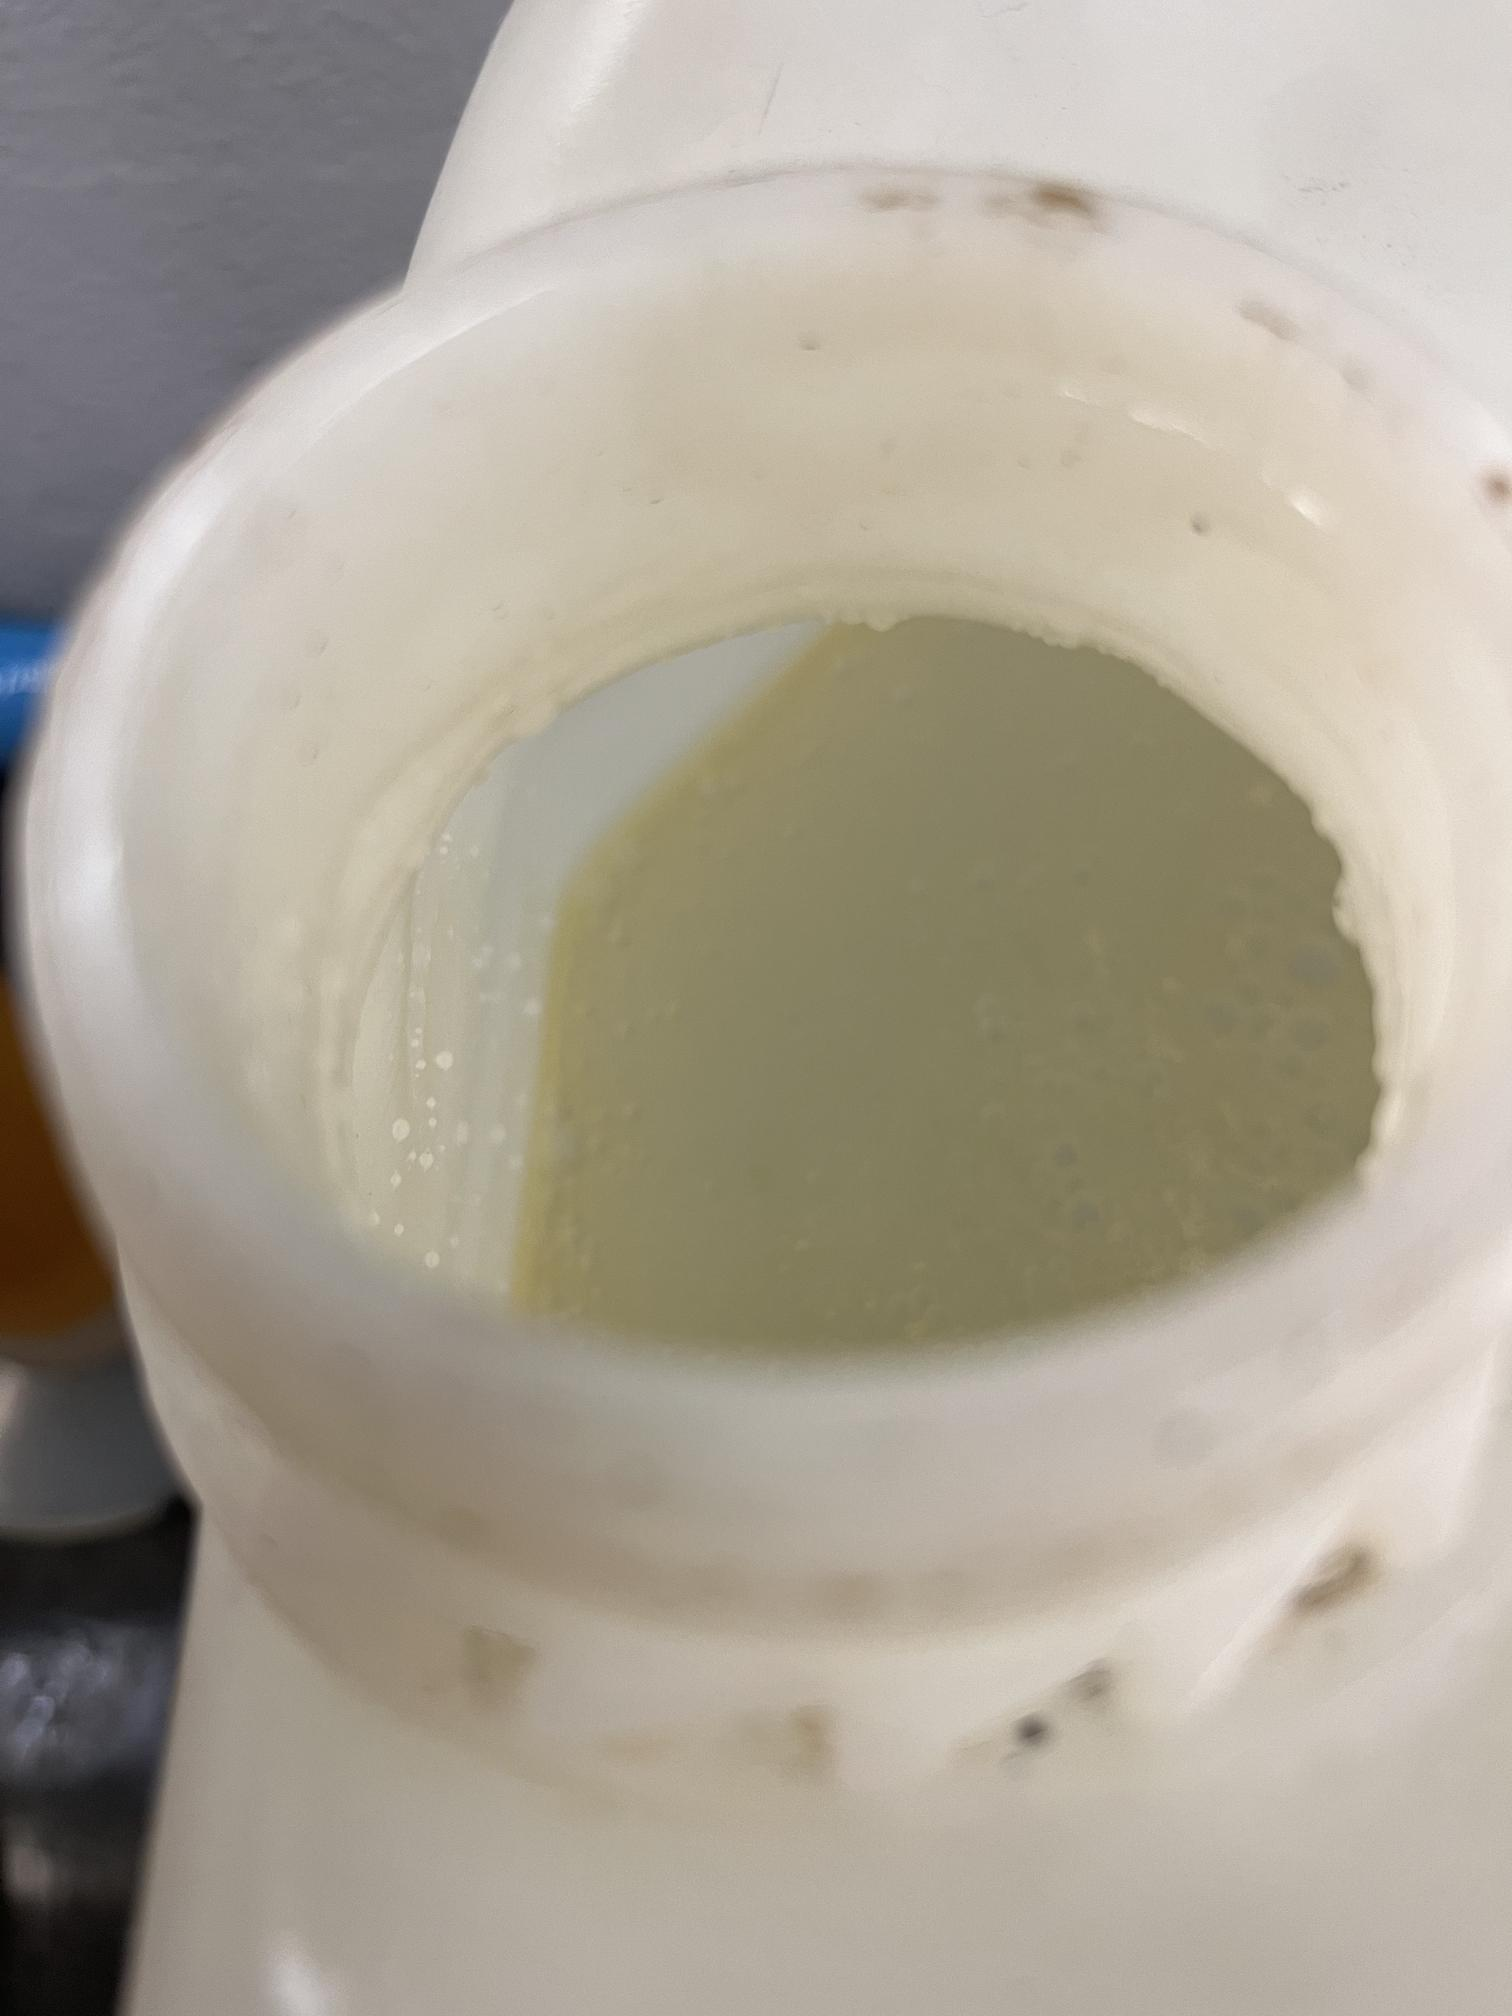Presenca de Oleo - - 200ml: (240, 410, 1471, 1556)
